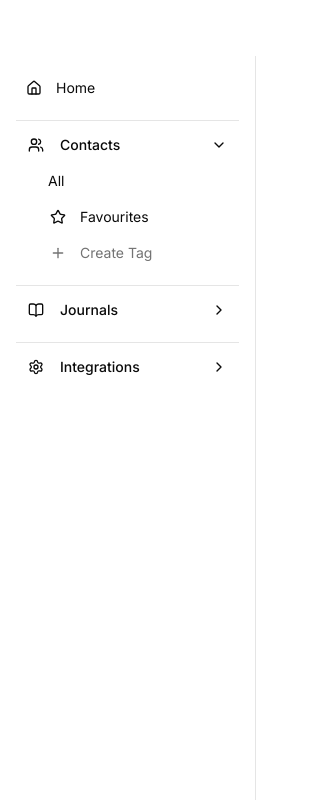
Test: Sidebar - Journal Tags › tag management › offers Edit Tag from the journal tag row context menu
This screenshot has width=320, height=800.
Click the button "Journals": coordinates (128, 310) 16,294 -> 239,326
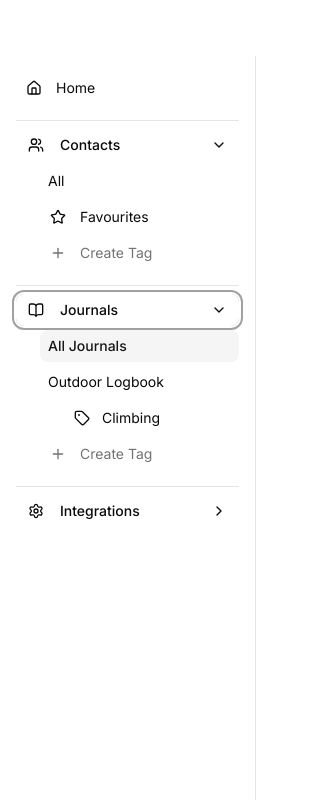
Right-click the link "Climbing": coordinates (117, 418) 74,409 -> 160,426
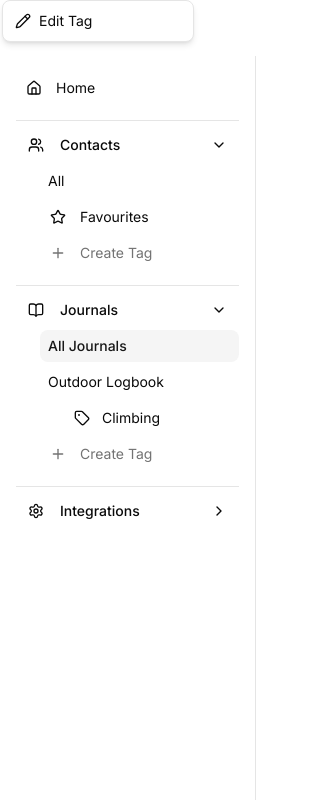
Now the menu item "Edit Tag" is shown, box 15,12 -> 92,29
